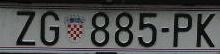-: (160, 26, 171, 35)
5: (138, 13, 158, 48)
8: (114, 11, 134, 48), (90, 12, 111, 47)
G: (41, 10, 59, 46)
K: (197, 12, 216, 48)
P: (173, 12, 192, 48)
Z: (15, 10, 36, 47)
